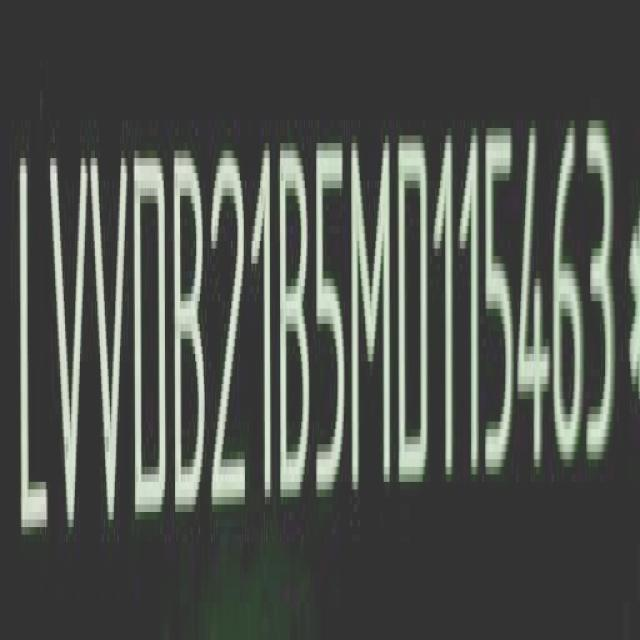1: (254, 145, 276, 517), (437, 131, 456, 491), (460, 127, 479, 486)
2: (212, 146, 249, 522)
3: (588, 119, 618, 468)
4: (520, 119, 550, 482)
5: (315, 136, 347, 506), (483, 126, 515, 484)
6: (554, 122, 586, 474)
B: (175, 147, 211, 525), (279, 143, 312, 512)
D: (132, 148, 168, 531), (398, 132, 432, 494)
L: (14, 146, 48, 554)
M: (352, 132, 392, 496)
V: (49, 151, 88, 546), (92, 147, 131, 539)
